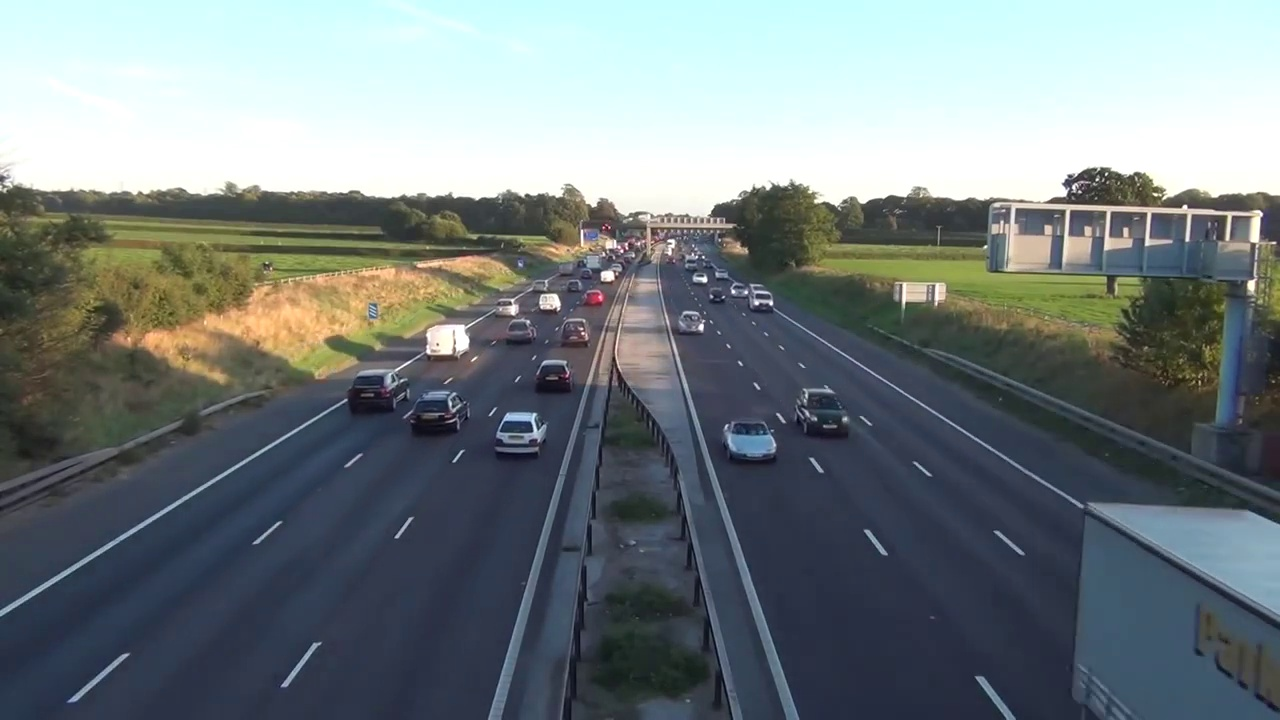bus: (793, 389, 849, 437), (346, 370, 410, 411), (410, 392, 471, 431), (494, 411, 548, 455), (722, 420, 778, 461), (534, 359, 573, 393), (561, 318, 589, 345), (507, 320, 537, 344), (678, 309, 705, 333), (494, 298, 520, 317), (708, 287, 724, 304), (730, 284, 749, 297), (693, 273, 708, 284)
lorry: (425, 324, 470, 358), (749, 284, 774, 312), (538, 293, 562, 311)
